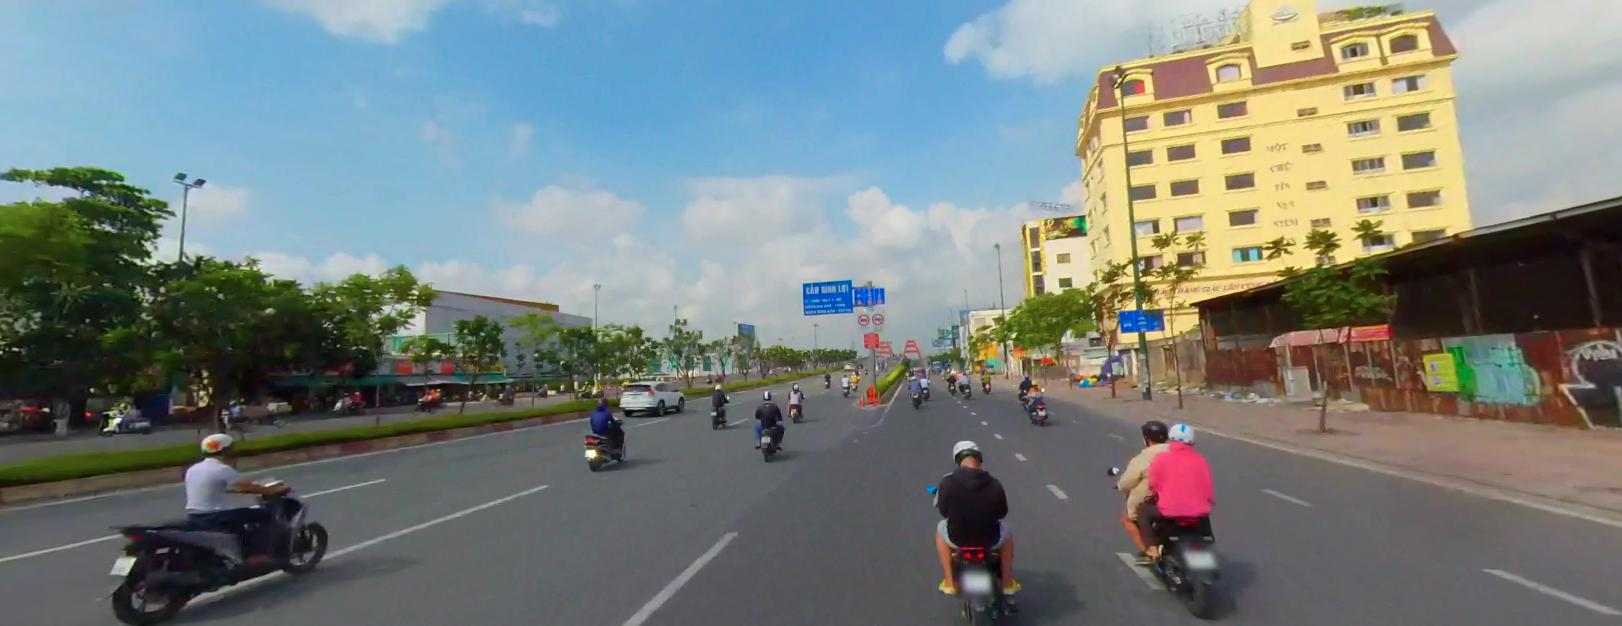Cam con lai: (858, 312, 869, 324), (871, 312, 883, 323)
